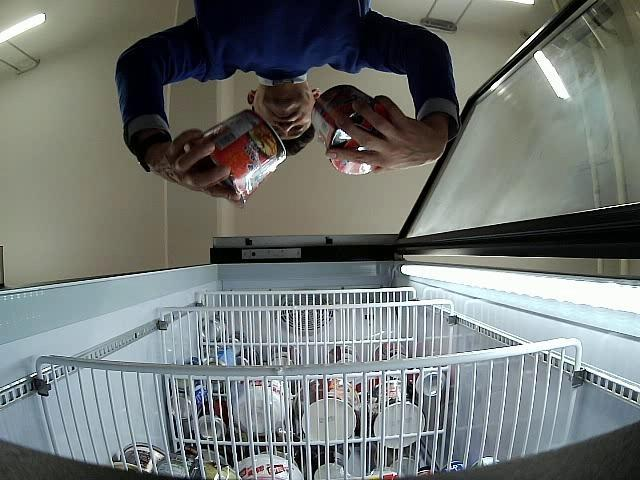01_ShinRamen_L: (184, 108, 286, 210), (312, 84, 386, 176)
